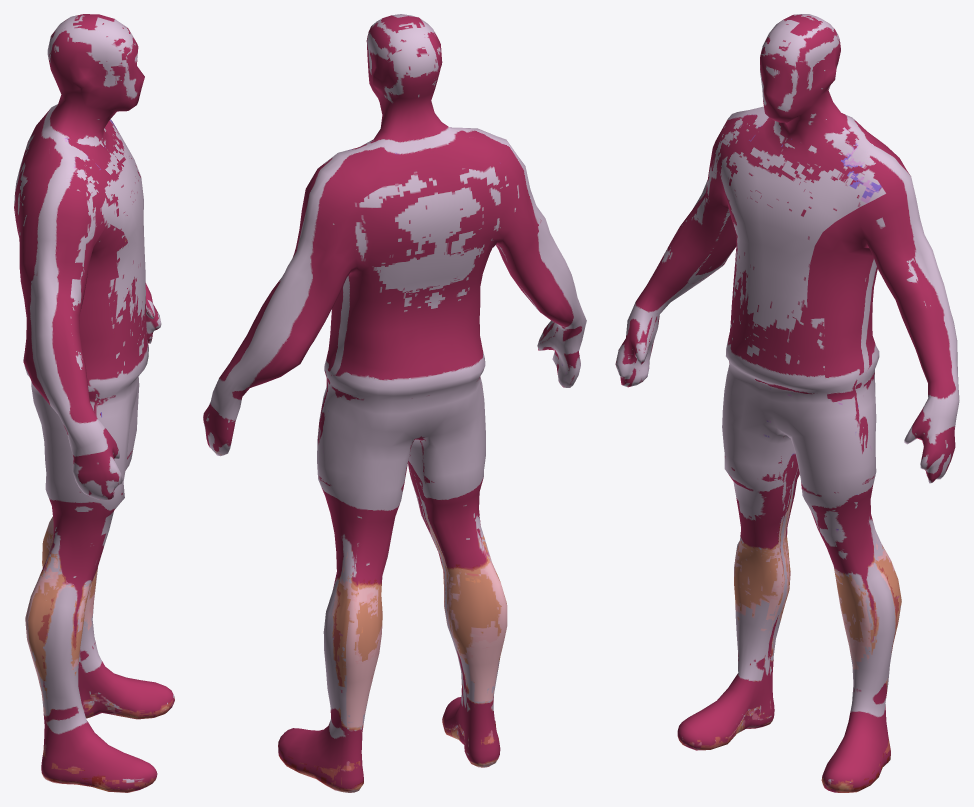
File: maniquie.obj
3 views of the same model, side by side, from view 1: azimuth 30°, elevation 25°; view 2: azimuth 150°, elevation 25°; view 3: azimuth 270°, elevation 25° (orthographic). The views are drawn at different scales.
Visible parts, largest first — view 1: maniquie7:Mesh; view 2: maniquie7:Mesh; view 3: maniquie7:Mesh.
Part boxes in pixels (x1,y1,x2,y2): maniquie7:Mesh: (14, 14, 174, 792); maniquie7:Mesh: (203, 14, 586, 792); maniquie7:Mesh: (615, 14, 959, 792).
Bounding box in the file's own units: 2.36 × 6.86 × 2.92.
Materials: 1 (1 with a texture image).
